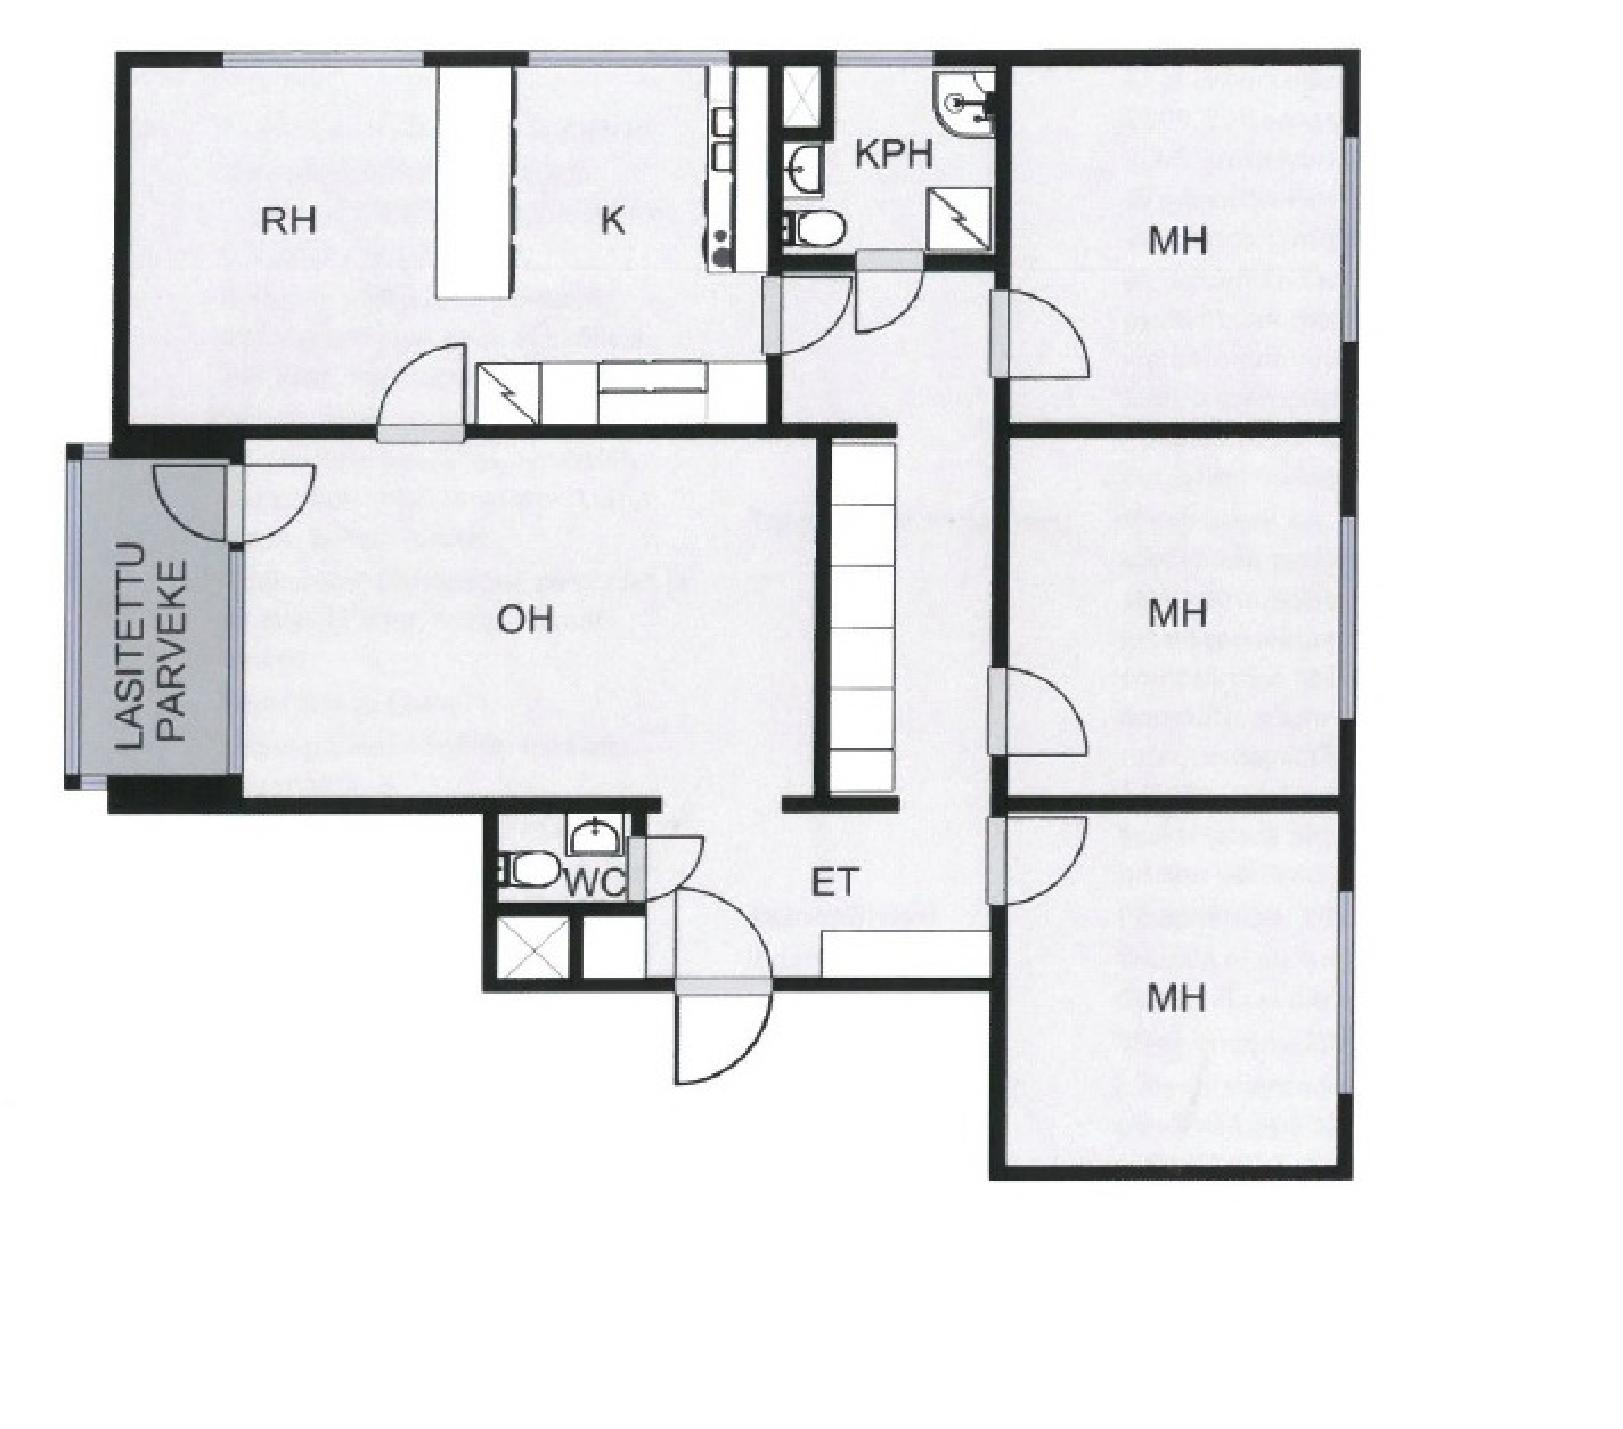door: (671, 888, 783, 1076), (144, 467, 322, 541), (983, 291, 1094, 387), (992, 667, 1092, 766), (374, 331, 464, 440), (988, 816, 1085, 910), (758, 275, 847, 352), (850, 253, 927, 340), (622, 834, 701, 895)
window: (523, 44, 733, 73), (63, 463, 83, 758), (1333, 902, 1362, 1093), (1341, 138, 1368, 342), (229, 548, 253, 769), (1333, 523, 1354, 726), (224, 48, 417, 68), (829, 52, 927, 69), (77, 777, 106, 794), (91, 447, 104, 457)
zone: (132, 66, 783, 438), (242, 443, 807, 801), (1006, 434, 1333, 798), (1012, 66, 1341, 420), (1009, 815, 1336, 1167), (777, 284, 990, 817), (640, 808, 992, 979), (780, 64, 1012, 271), (80, 460, 224, 781), (495, 810, 640, 978)
